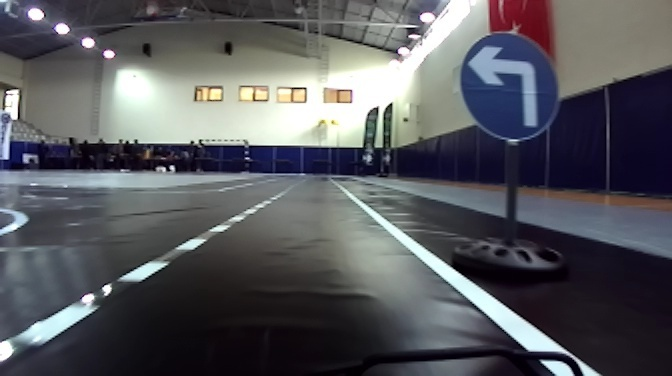sola_donus: (456, 30, 566, 144)
